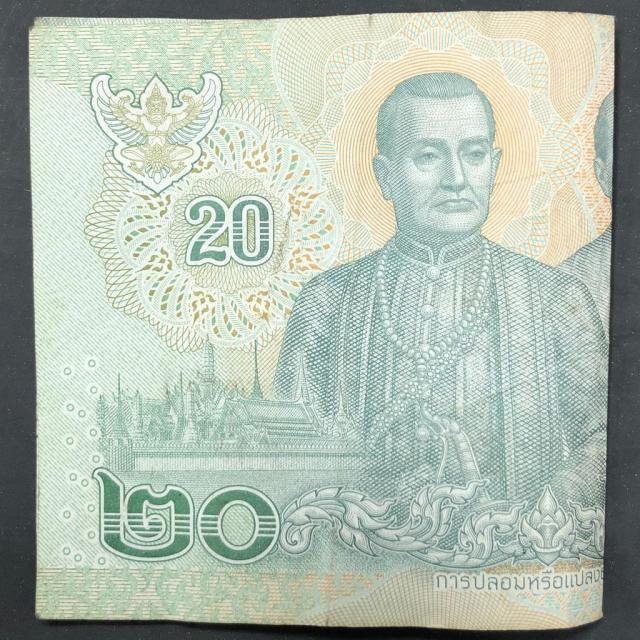THAI20: (29, 11, 617, 631)
